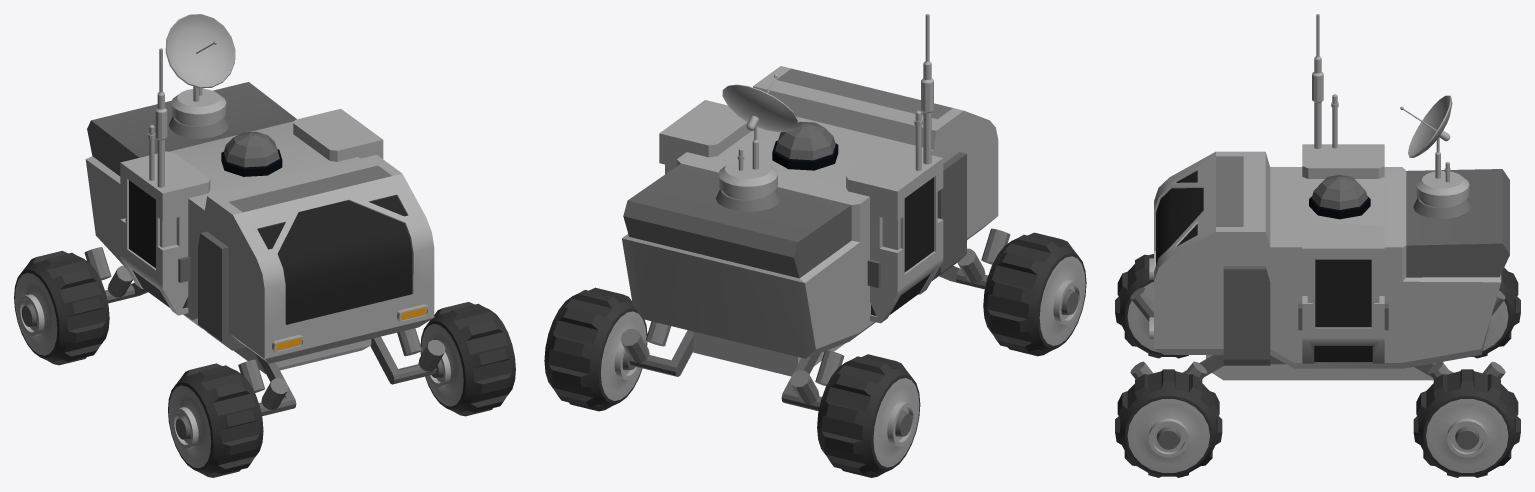
Rendered from robot.fbx.
3 views of the same model, side by side, from view 1: azimuth 30°, elevation 25°; view 2: azimuth 150°, elevation 25°; view 3: azimuth 270°, elevation 25° (orthographic). The views are drawn at different scales.
Visible parts, largest first — view 1: Body, Wheel_FR, Wheel_RR, Wheel_FL, SirenMesh; view 2: Body, Wheel_FR, Wheel_RR, Wheel_RL, SirenMesh; view 3: Body, Wheel_FL, Wheel_RL, Wheel_FR, SirenMesh, Wheel_RR.
Boxes of the visible parts, bbox=[...] form: Body: bbox=[84, 14, 445, 416]; Wheel_FR: bbox=[168, 363, 263, 477]; Wheel_RR: bbox=[14, 250, 109, 365]; Wheel_FL: bbox=[420, 302, 515, 416]; SirenMesh: bbox=[221, 131, 282, 176]; Body: bbox=[620, 14, 1010, 411]; Wheel_FR: bbox=[983, 232, 1086, 356]; Wheel_RR: bbox=[817, 354, 920, 477]; Wheel_RL: bbox=[544, 287, 647, 411]; SirenMesh: bbox=[772, 121, 838, 170]; Body: bbox=[1130, 14, 1509, 380]; Wheel_FL: bbox=[1115, 369, 1222, 477]; Wheel_RL: bbox=[1413, 369, 1520, 477]; Wheel_FR: bbox=[1115, 254, 1188, 358]; SirenMesh: bbox=[1309, 175, 1370, 219]; Wheel_RR: bbox=[1471, 267, 1520, 358].
Bounding box in the file's own units: 91.81 × 97.83 × 103.
Materials: 3 (1 with a texture image).
